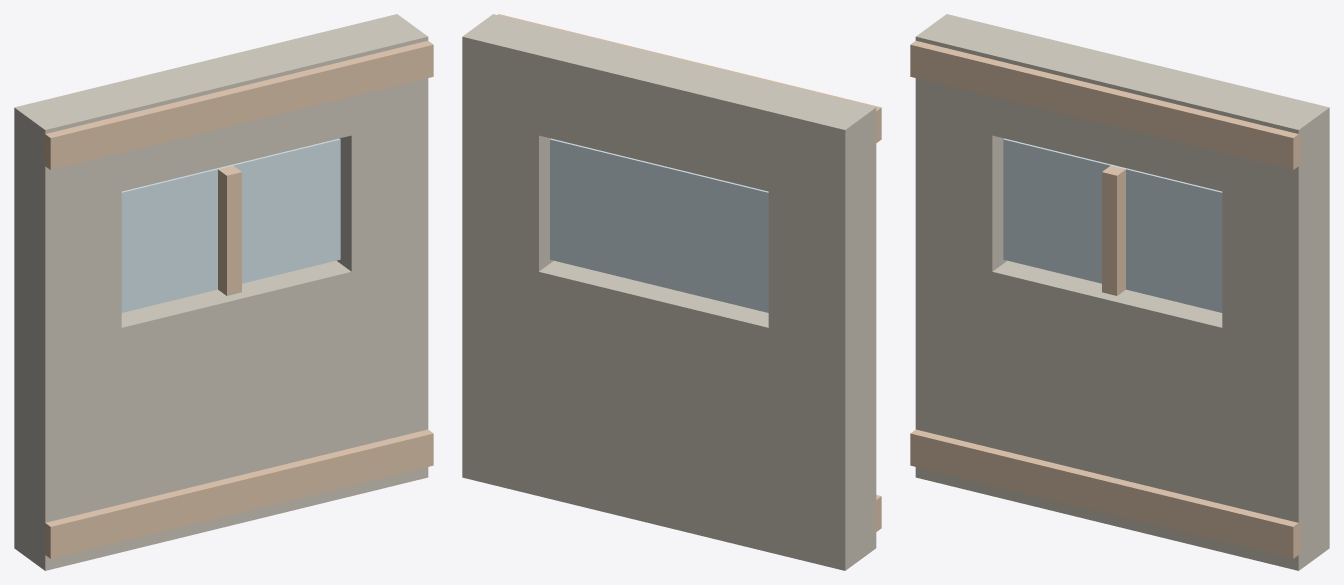
Rendered from wall-wood-window.glb.
3 renders of one model, left to right at view 1: azimuth 30°, elevation 25°; view 2: azimuth 150°, elevation 25°; view 3: azimuth 330°, elevation 25°, orthographic.
Parts seen in each view (by area): view 1: sill, left_jamb, right_jamb, pane, lintel, top_trim, trim, crossbar; view 2: sill, left_jamb, right_jamb, pane, lintel, top_trim; view 3: sill, right_jamb, left_jamb, pane, lintel, trim, top_trim, crossbar.
Part boxes in pixels (left/top/right/bottom): sill: left=121, top=260, right=351, bottom=551; left_jamb: left=14, top=89, right=121, bottom=570; right_jamb: left=321, top=14, right=428, bottom=495; pane: left=121, top=138, right=340, bottom=312; lintel: left=91, top=32, right=351, bottom=191; top_trim: left=42, top=41, right=433, bottom=169; trim: left=45, top=429, right=433, bottom=558; crossbar: left=218, top=165, right=241, bottom=295; sill: left=539, top=260, right=768, bottom=552; left_jamb: left=768, top=89, right=876, bottom=570; right_jamb: left=462, top=14, right=569, bottom=495; pane: left=550, top=138, right=768, bottom=312; lintel: left=539, top=33, right=799, bottom=191; top_trim: left=498, top=14, right=881, bottom=145; sill: left=992, top=260, right=1222, bottom=551; right_jamb: left=1222, top=89, right=1329, bottom=570; left_jamb: left=915, top=14, right=1022, bottom=495; pane: left=1003, top=138, right=1222, bottom=312; lintel: left=992, top=32, right=1252, bottom=191; trim: left=910, top=429, right=1301, bottom=558; top_trim: left=910, top=41, right=1301, bottom=169; crossbar: left=1102, top=165, right=1125, bottom=295.
Size of the model in its own units: 1 by 1.1 by 0.165.
